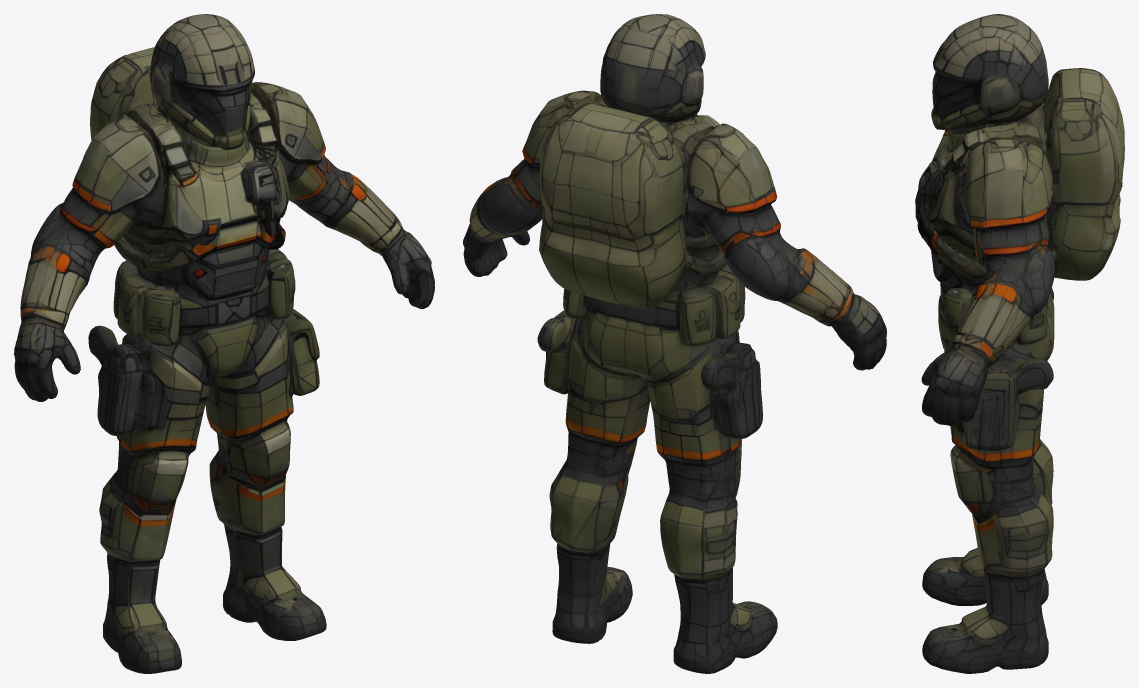
Rendered from source.glb.
3 renders of one model, left to right at view 1: azimuth 30°, elevation 25°; view 2: azimuth 150°, elevation 25°; view 3: azimuth 270°, elevation 25°, orthographic.
Parts seen in each view (by area): view 1: textured_mesh.obj; view 2: textured_mesh.obj; view 3: textured_mesh.obj.
Part boxes in pixels (x1,y1,x2,y2): textured_mesh.obj: [14, 14, 434, 673]; textured_mesh.obj: [463, 14, 886, 673]; textured_mesh.obj: [915, 14, 1124, 673].
Size of the model in its own units: 1.38 by 1.99 by 0.6194.
1 material, 1 textured.
